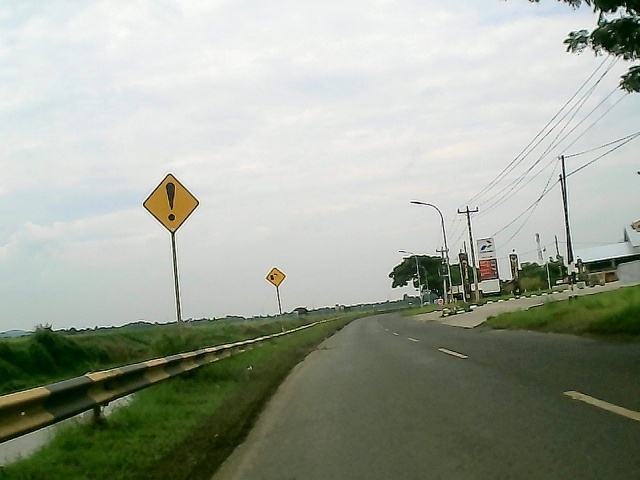Hati-hati: (142, 171, 202, 236)
Peringatan tepi air: (265, 266, 286, 289)
